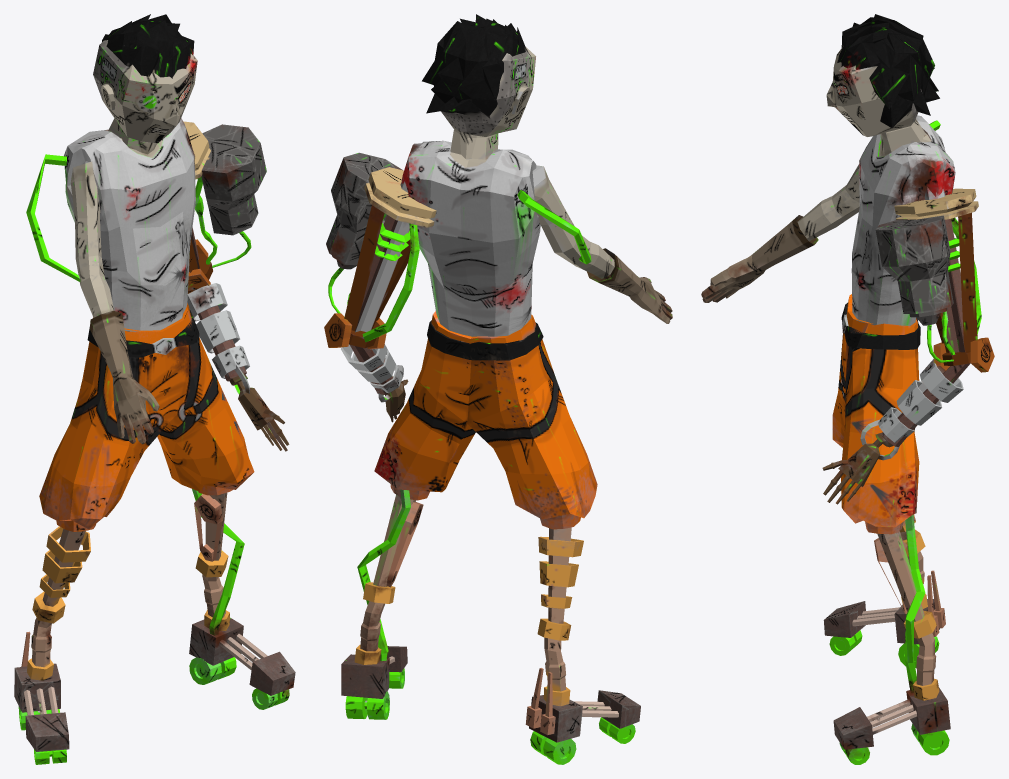
File: CyborgFINALAnimation_000005.obj
3 renders of one model, left to right at view 1: azimuth 30°, elevation 25°; view 2: azimuth 150°, elevation 25°; view 3: azimuth 270°, elevation 25°, orthographic. The views are drawn at different scales.
Visible parts, largest first — view 1: CyborgMesh_Cube.002; view 2: CyborgMesh_Cube.002; view 3: CyborgMesh_Cube.002.
Boxes of the visible parts, left/top/right/bottom form: CyborgMesh_Cube.002: left=14, top=14, right=295, bottom=764; CyborgMesh_Cube.002: left=324, top=14, right=672, bottom=764; CyborgMesh_Cube.002: left=701, top=14, right=994, bottom=764.
Size of the model in its own units: 3.79 by 9.64 by 3.73.
